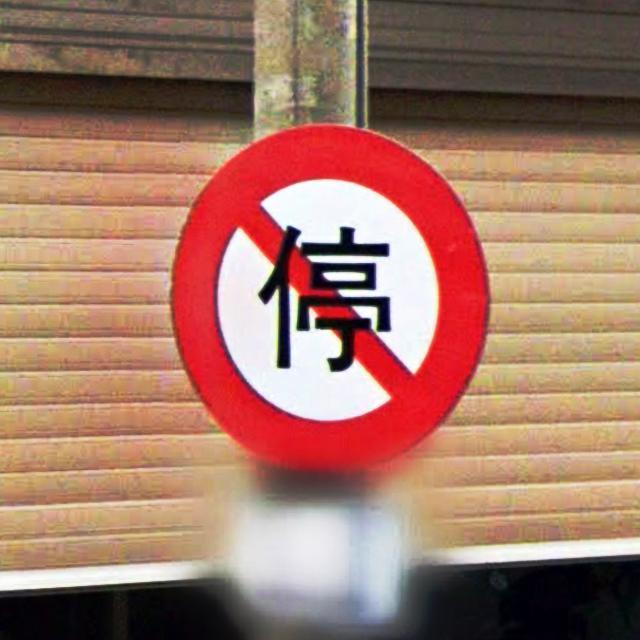nopark: (168, 120, 491, 477)
